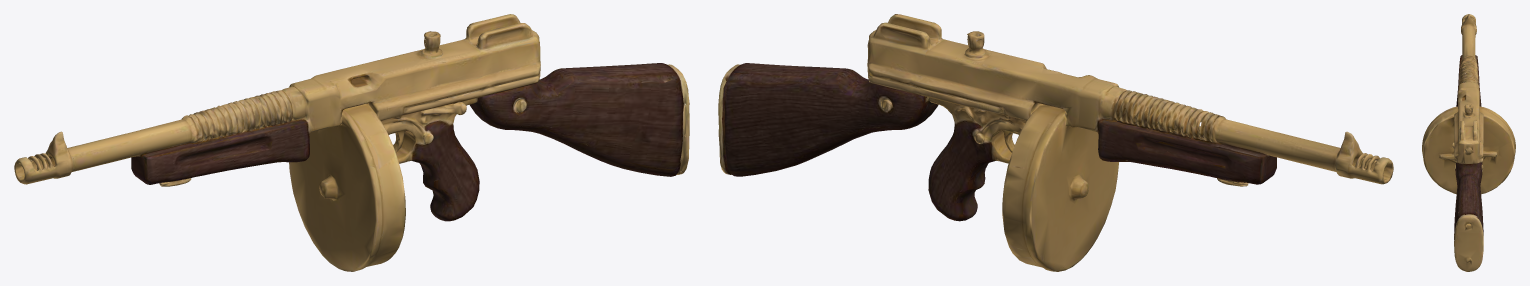
File: golden_tommy.glb
The picture shows the model from 3 angles, left to right: view 1: azimuth 30°, elevation 25°; view 2: azimuth 150°, elevation 25°; view 3: azimuth 270°, elevation 25°; orthographic projection. The views are drawn at different scales.
Visible parts, largest first — view 1: tripo_node_cdf2383e; view 2: tripo_node_cdf2383e; view 3: tripo_node_cdf2383e.
Boxes of the visible parts, x1,y1,x2,y2 form: tripo_node_cdf2383e: (14,14,689,271); tripo_node_cdf2383e: (718,14,1393,271); tripo_node_cdf2383e: (1422,14,1515,271).
Size of the model in its own units: 0.9977 by 0.3 by 0.2344.
1 material, 1 textured.
